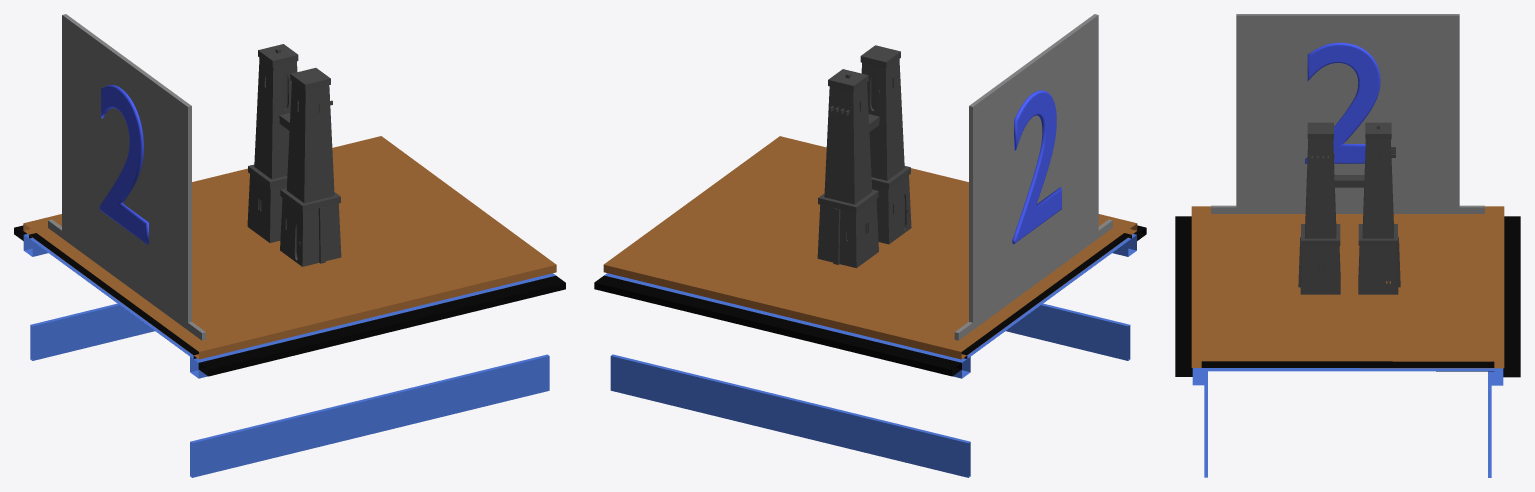
The model's file is Shaking Table Bagian 2.fbx.
The picture shows the model from 3 angles, left to right: view 1: azimuth 30°, elevation 25°; view 2: azimuth 150°, elevation 25°; view 3: azimuth 270°, elevation 25°; orthographic projection. The views are drawn at different scales.
Parts seen in each view (by area): view 1: 2_low.001; view 2: 2_low.001; view 3: 2_low.001.
Boxes of the visible parts, x1,y1,x2,y2 form: 2_low.001: (14, 14, 565, 477); 2_low.001: (594, 14, 1146, 477); 2_low.001: (1175, 14, 1520, 477).
Bounding box in the file's own units: 94.53 × 89.39 × 88.89.
